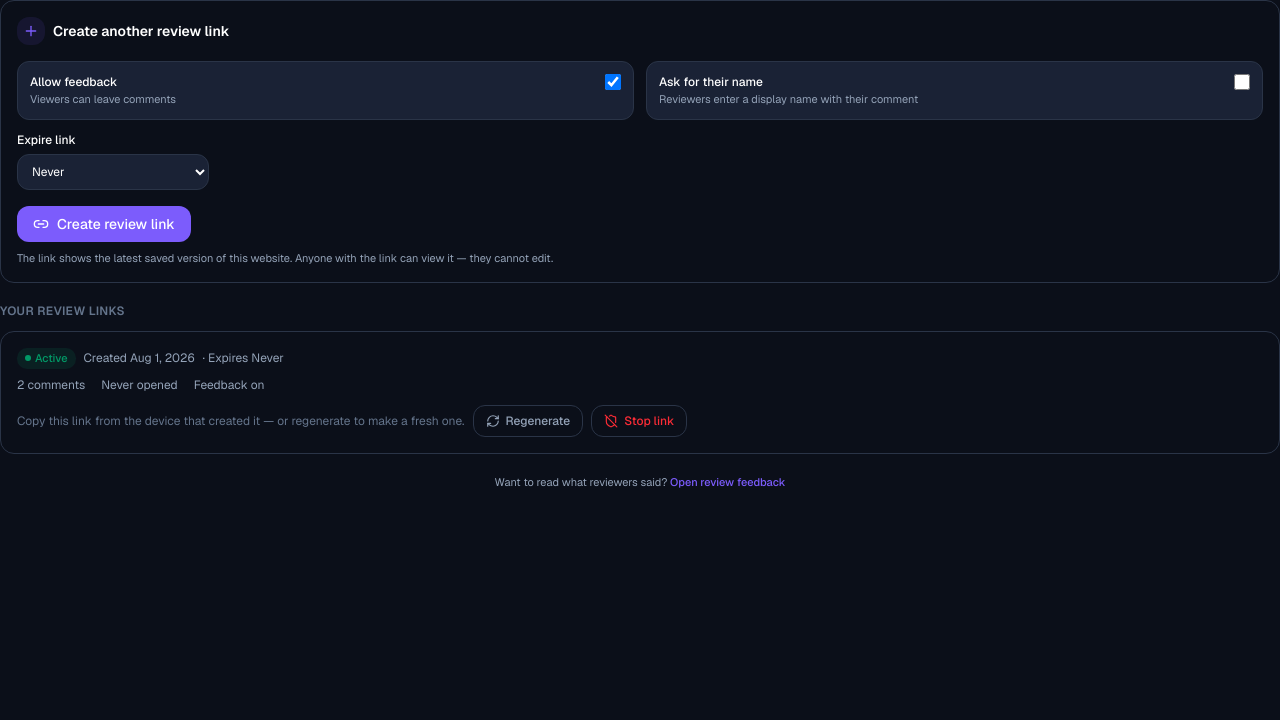
Test case: manage list › regenerate requires confirmation and returns a fresh link
Click the button with test id "share-regenerate-share-1" at (528, 421), box [472,405,583,437]
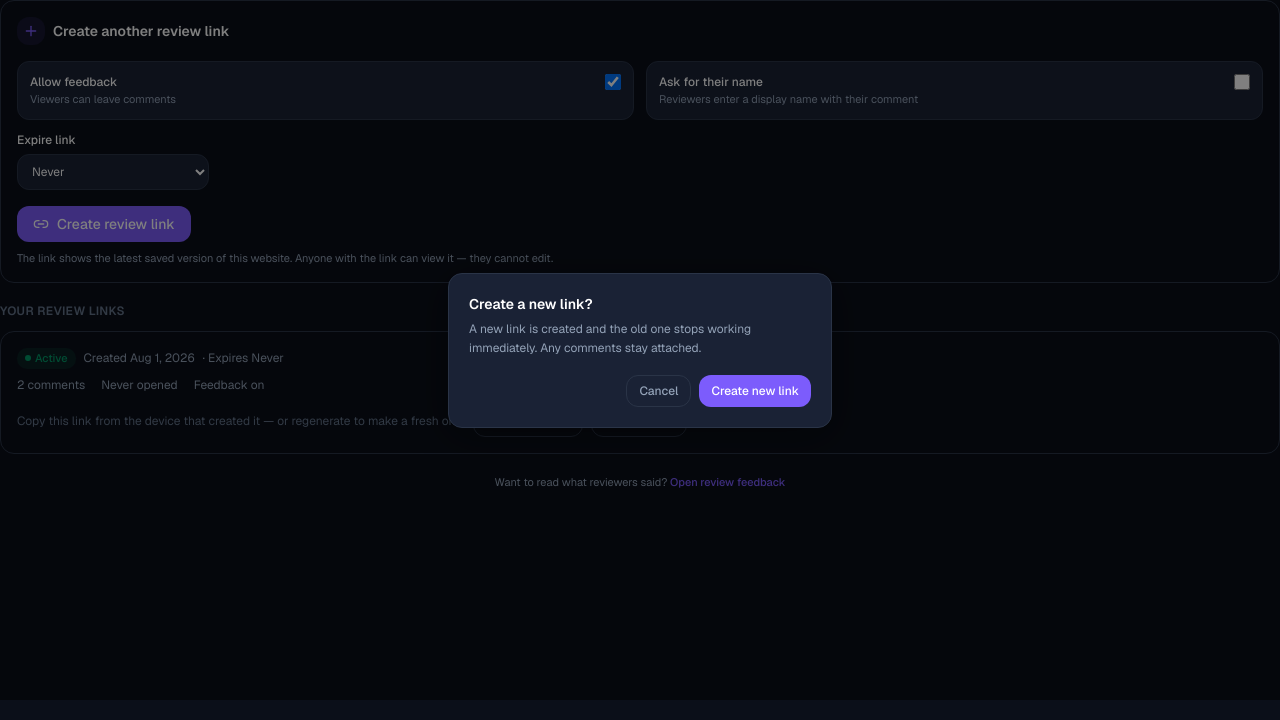
Click the button with test id "share-confirm-action" at (755, 390), box [699,374,811,406]
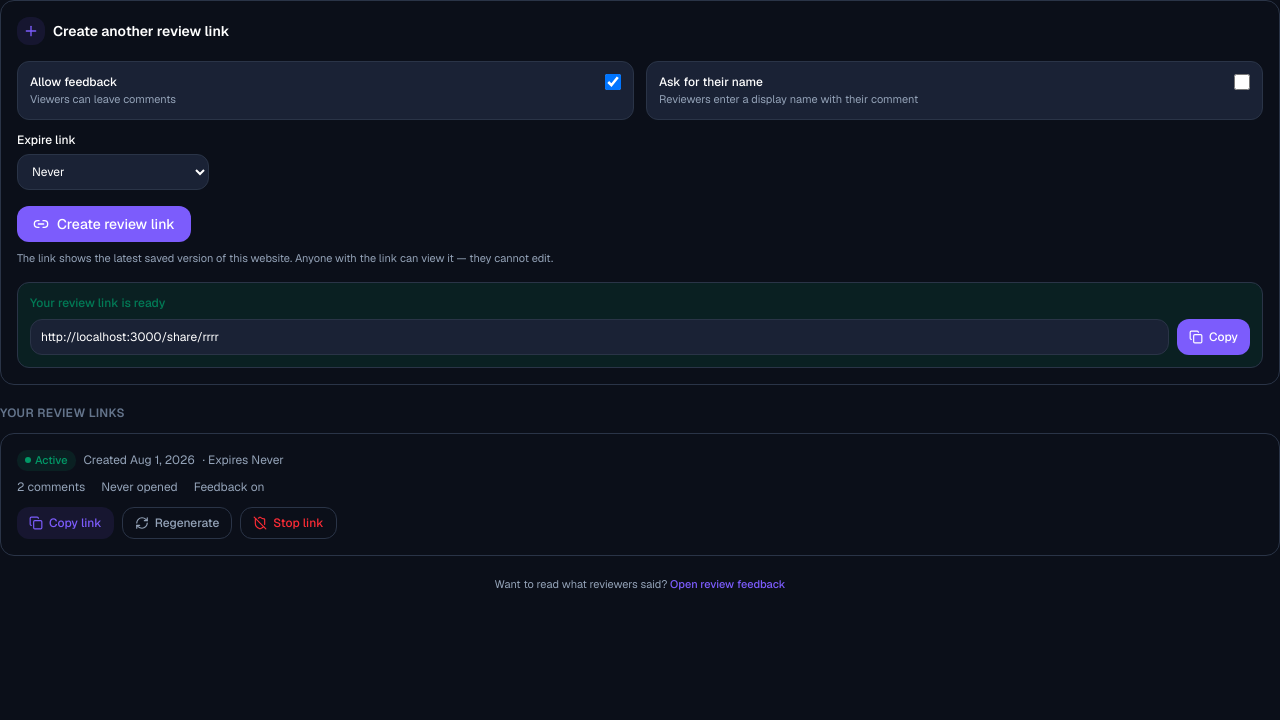
Expected: the element with test id "share-created-card" is shown, [17,282,1263,368]
